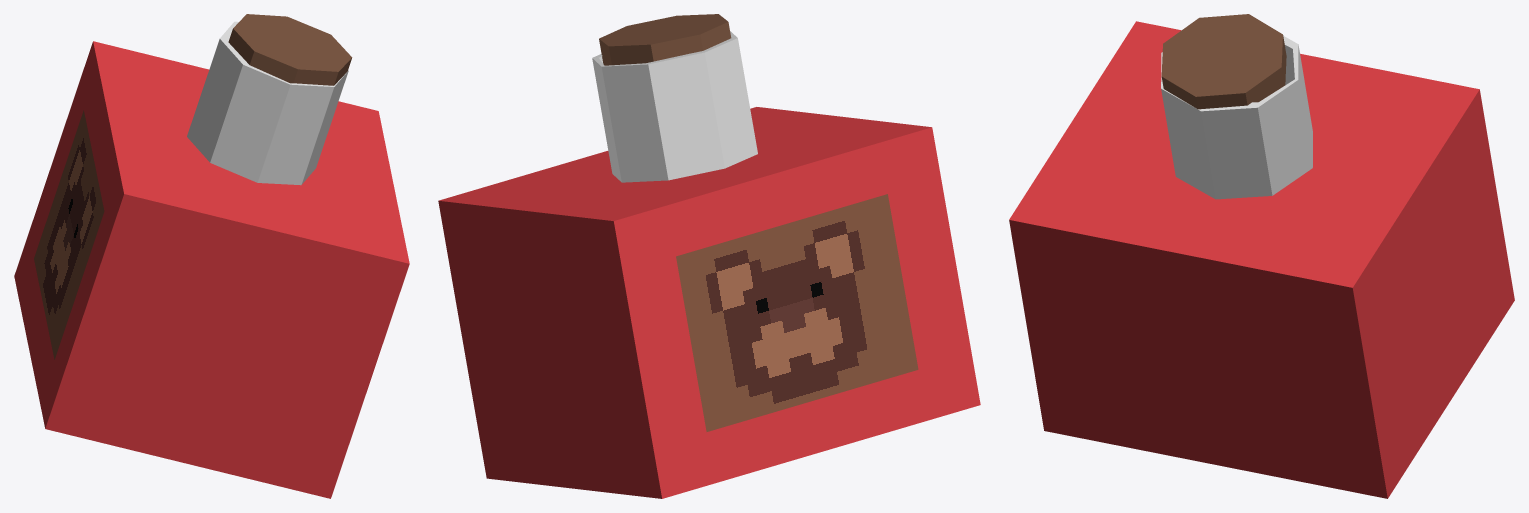
Rendered from Bear_Potion.fbx.
3 views of the same model, side by side, from view 1: azimuth 30°, elevation 25°; view 2: azimuth 150°, elevation 25°; view 3: azimuth 270°, elevation 25° (orthographic). The views are drawn at different scales.
Parts seen in each view (by area): view 1: Bear Potion, Lid Bear; view 2: Bear Potion, Lid Bear; view 3: Bear Potion, Lid Bear.
Part boxes in pixels (x1,y1,x2,y2): Bear Potion: (14, 21, 409, 498); Lid Bear: (228, 14, 352, 85); Bear Potion: (438, 31, 980, 498); Lid Bear: (599, 14, 731, 65); Bear Potion: (1009, 21, 1514, 498); Lid Bear: (1161, 14, 1286, 109).
Size of the model in its own units: 500 by 454 by 499.
